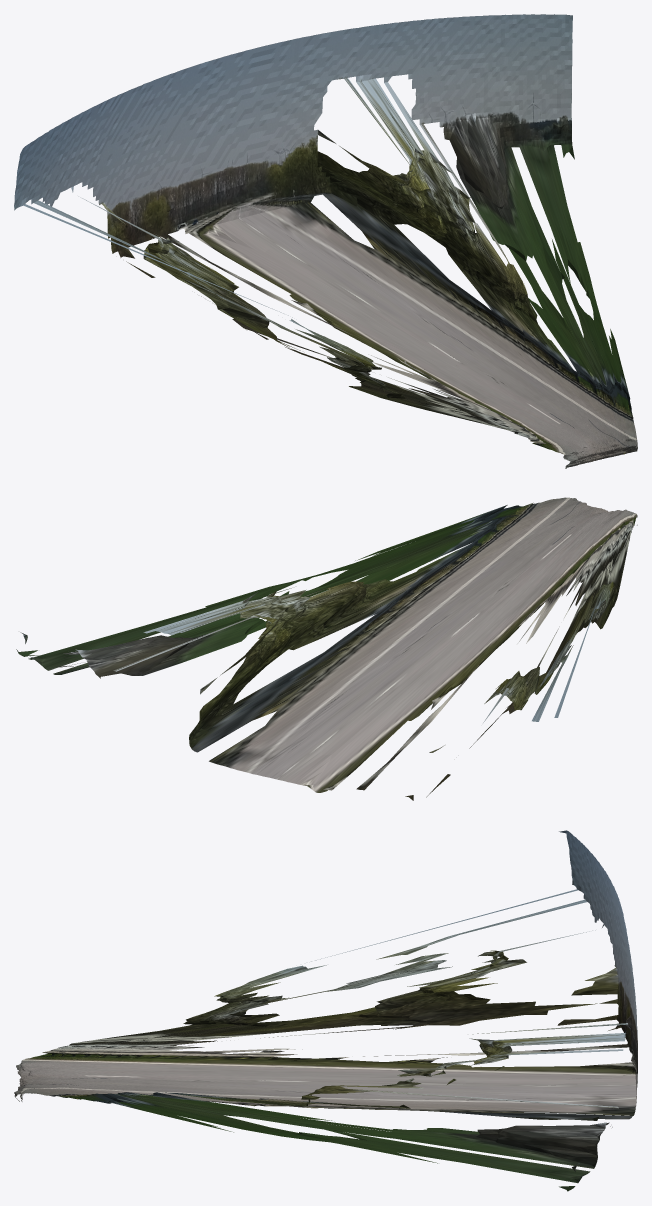
3 views of the same model, one above another, from view 1: azimuth 30°, elevation 25°; view 2: azimuth 150°, elevation 25°; view 3: azimuth 270°, elevation 25° (orthographic). The views are drawn at different scales.
Visible parts, largest first — view 1: defaultobject; view 2: defaultobject; view 3: defaultobject.
Boxes of the visible parts, left/top/right/bottom form: defaultobject: left=14, top=14, right=637, bottom=468; defaultobject: left=16, top=497, right=637, bottom=800; defaultobject: left=14, top=830, right=637, bottom=1191.
Size of the model in its own units: 41.05 by 12.46 by 44.39.
Materials: 1 (1 with a texture image).
